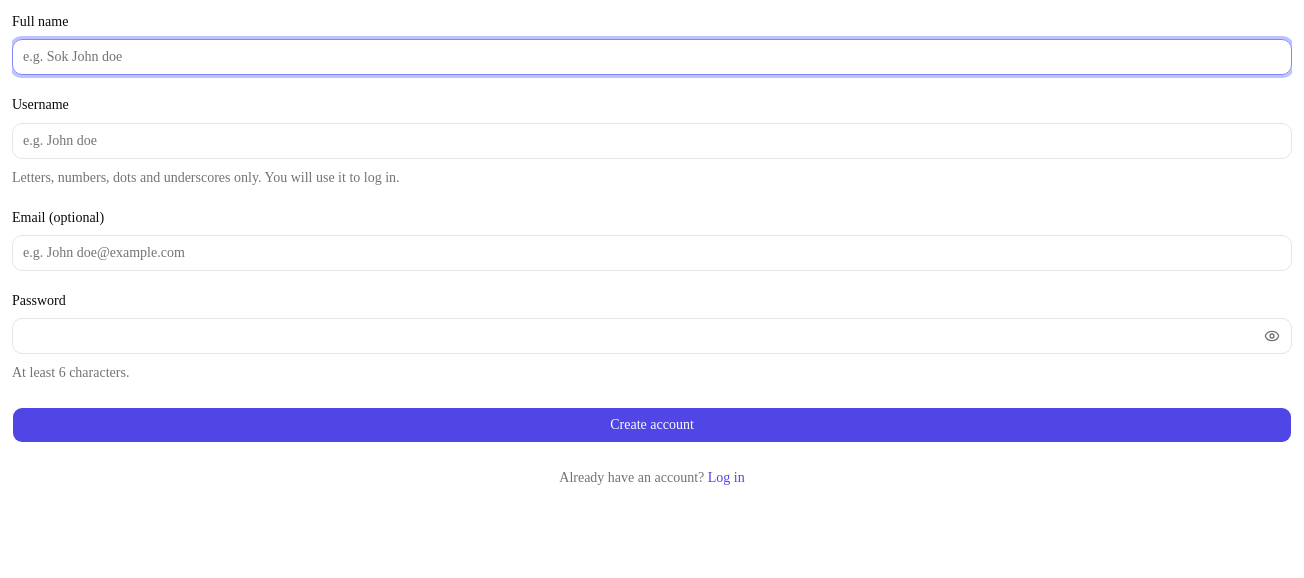
Test case: RegisterForm › requires full name, username and password but not email
The image size is (1304, 578).
Click the button "Create account" at coordinates (652, 425), box x1=12 y1=407 x2=1292 y2=443
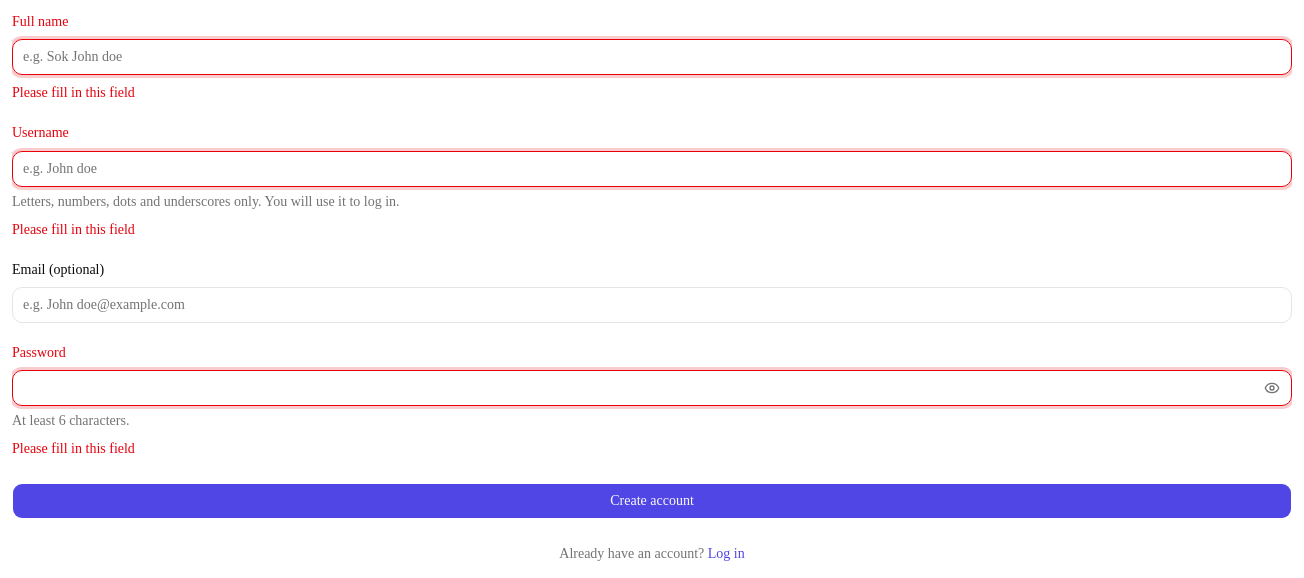
expect the text "Please fill in this field" is shown 3 times: met, box x1=12 y1=85 x2=135 y2=100; x1=12 y1=222 x2=135 y2=236; x1=12 y1=441 x2=135 y2=456
